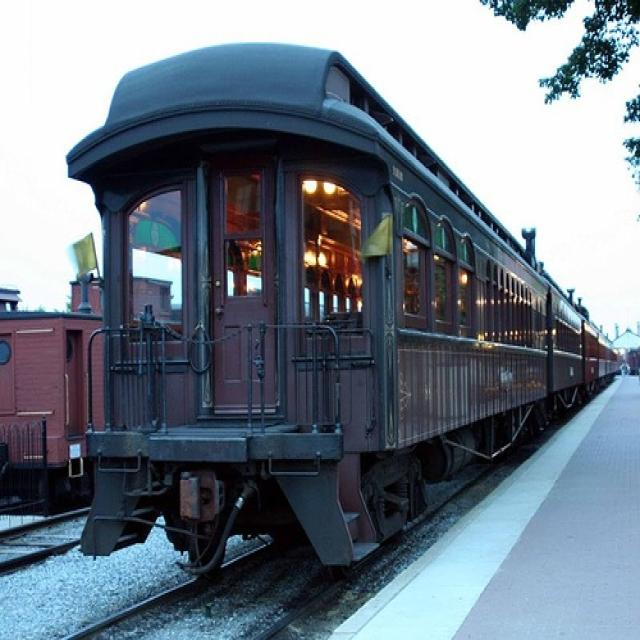train: (82, 39, 626, 572)
